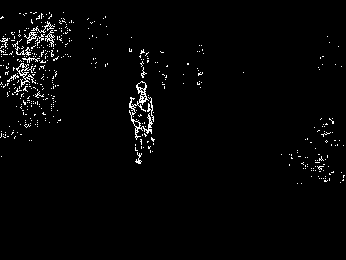person: (122, 80, 159, 167)
